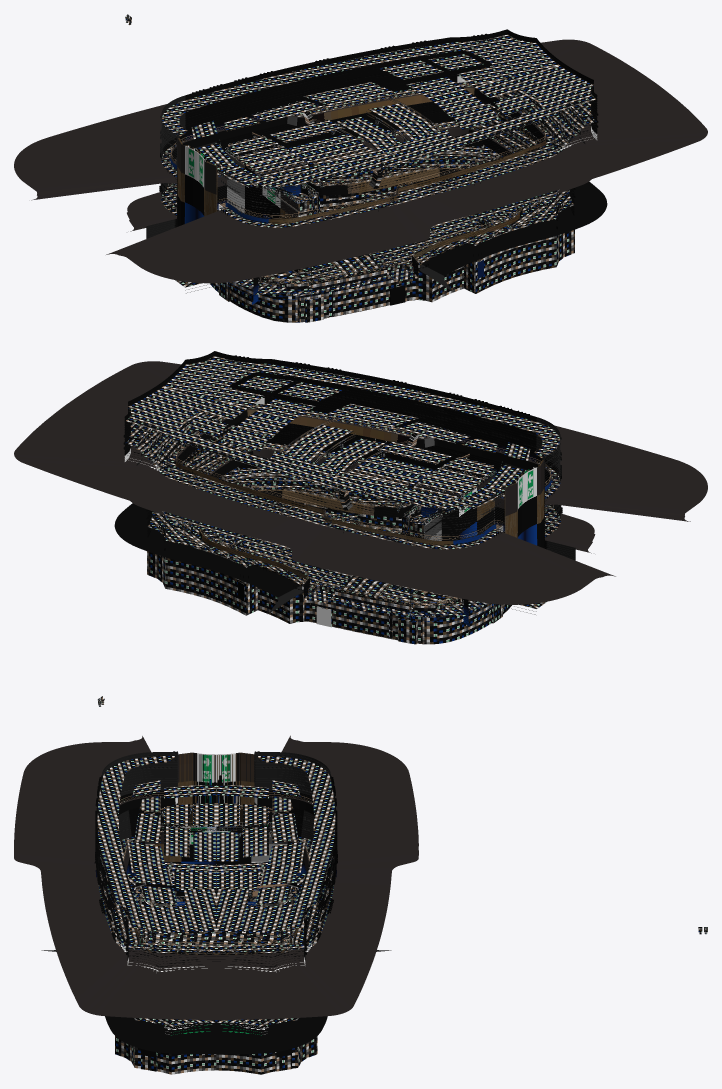
The model's file is perspekt-all-transformed.glb.
3 views of the same model, one above another, from view 1: azimuth 30°, elevation 25°; view 2: azimuth 150°, elevation 25°; view 3: azimuth 270°, elevation 25° (orthographic).
Parts seen in each view (by area): view 1: barrier.001, ceiling-panels, walls.003, walls.007, barrier, floor.001, floor.003, option best, walls.001, Plane.032, floor.002, floor (+8 smaller); view 2: barrier.001, ceiling-panels, walls.003, walls.007, barrier, floor.001, floor.003, option best, walls.001, Plane.032, floor.002, floor (+7 smaller); view 3: barrier.001, ceiling-panels, walls.003, barrier, walls.007, floor.001, Plane.032, Circle.887, screen-large, walls.001, organs-background-sides, floor.003 (+1 smaller).
Part boxes in pixels (<box>): barrier.001: <box>14,39,707,283</box>; ceiling-panels: <box>162,34,596,187</box>; walls.003: <box>160,29,598,225</box>; walls.007: <box>210,180,574,322</box>; barrier: <box>302,168,607,291</box>; floor.001: <box>161,65,596,227</box>; floor.003: <box>311,146,573,265</box>; option best: <box>146,137,575,304</box>; walls.001: <box>159,97,585,231</box>; Plane.032: <box>177,138,216,226</box>; floor.002: <box>161,104,557,234</box>; floor: <box>296,191,518,314</box>; barrier.001: <box>14,361,707,604</box>; ceiling-panels: <box>125,356,559,509</box>; walls.003: <box>123,351,561,546</box>; walls.007: <box>147,501,511,644</box>; barrier: <box>114,489,419,613</box>; floor.001: <box>125,387,560,549</box>; floor.003: <box>147,467,410,587</box>; option best: <box>146,459,575,626</box>; walls.001: <box>136,419,562,553</box>; Plane.032: <box>505,460,544,548</box>; floor.002: <box>163,425,560,555</box>; floor: <box>203,512,425,636</box>; barrier.001: <box>14,735,418,1019</box>; ceiling-panels: <box>97,756,335,933</box>; walls.003: <box>95,751,337,973</box>; barrier: <box>41,950,391,1054</box>; walls.007: <box>115,1016,327,1074</box>; floor.001: <box>98,801,333,954</box>; Plane.032: <box>178,752,254,826</box>; Circle.887: <box>144,930,288,945</box>; screen-large: <box>146,827,286,896</box>; walls.001: <box>94,798,337,970</box>; organs-background-sides: <box>179,752,253,826</box>; floor.003: <box>134,1018,298,1026</box>.
Size of the model in its own units: 78.67 by 19.96 by 81.03.
Materials: 1 (1 with a texture image).
